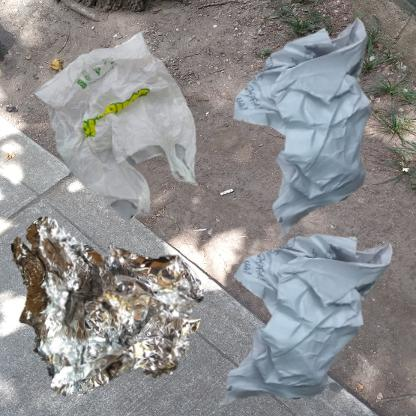aluminio: (10, 213, 206, 398)
bolsa: (10, 10, 234, 243)
papel: (213, 10, 416, 262), (213, 213, 402, 416)
